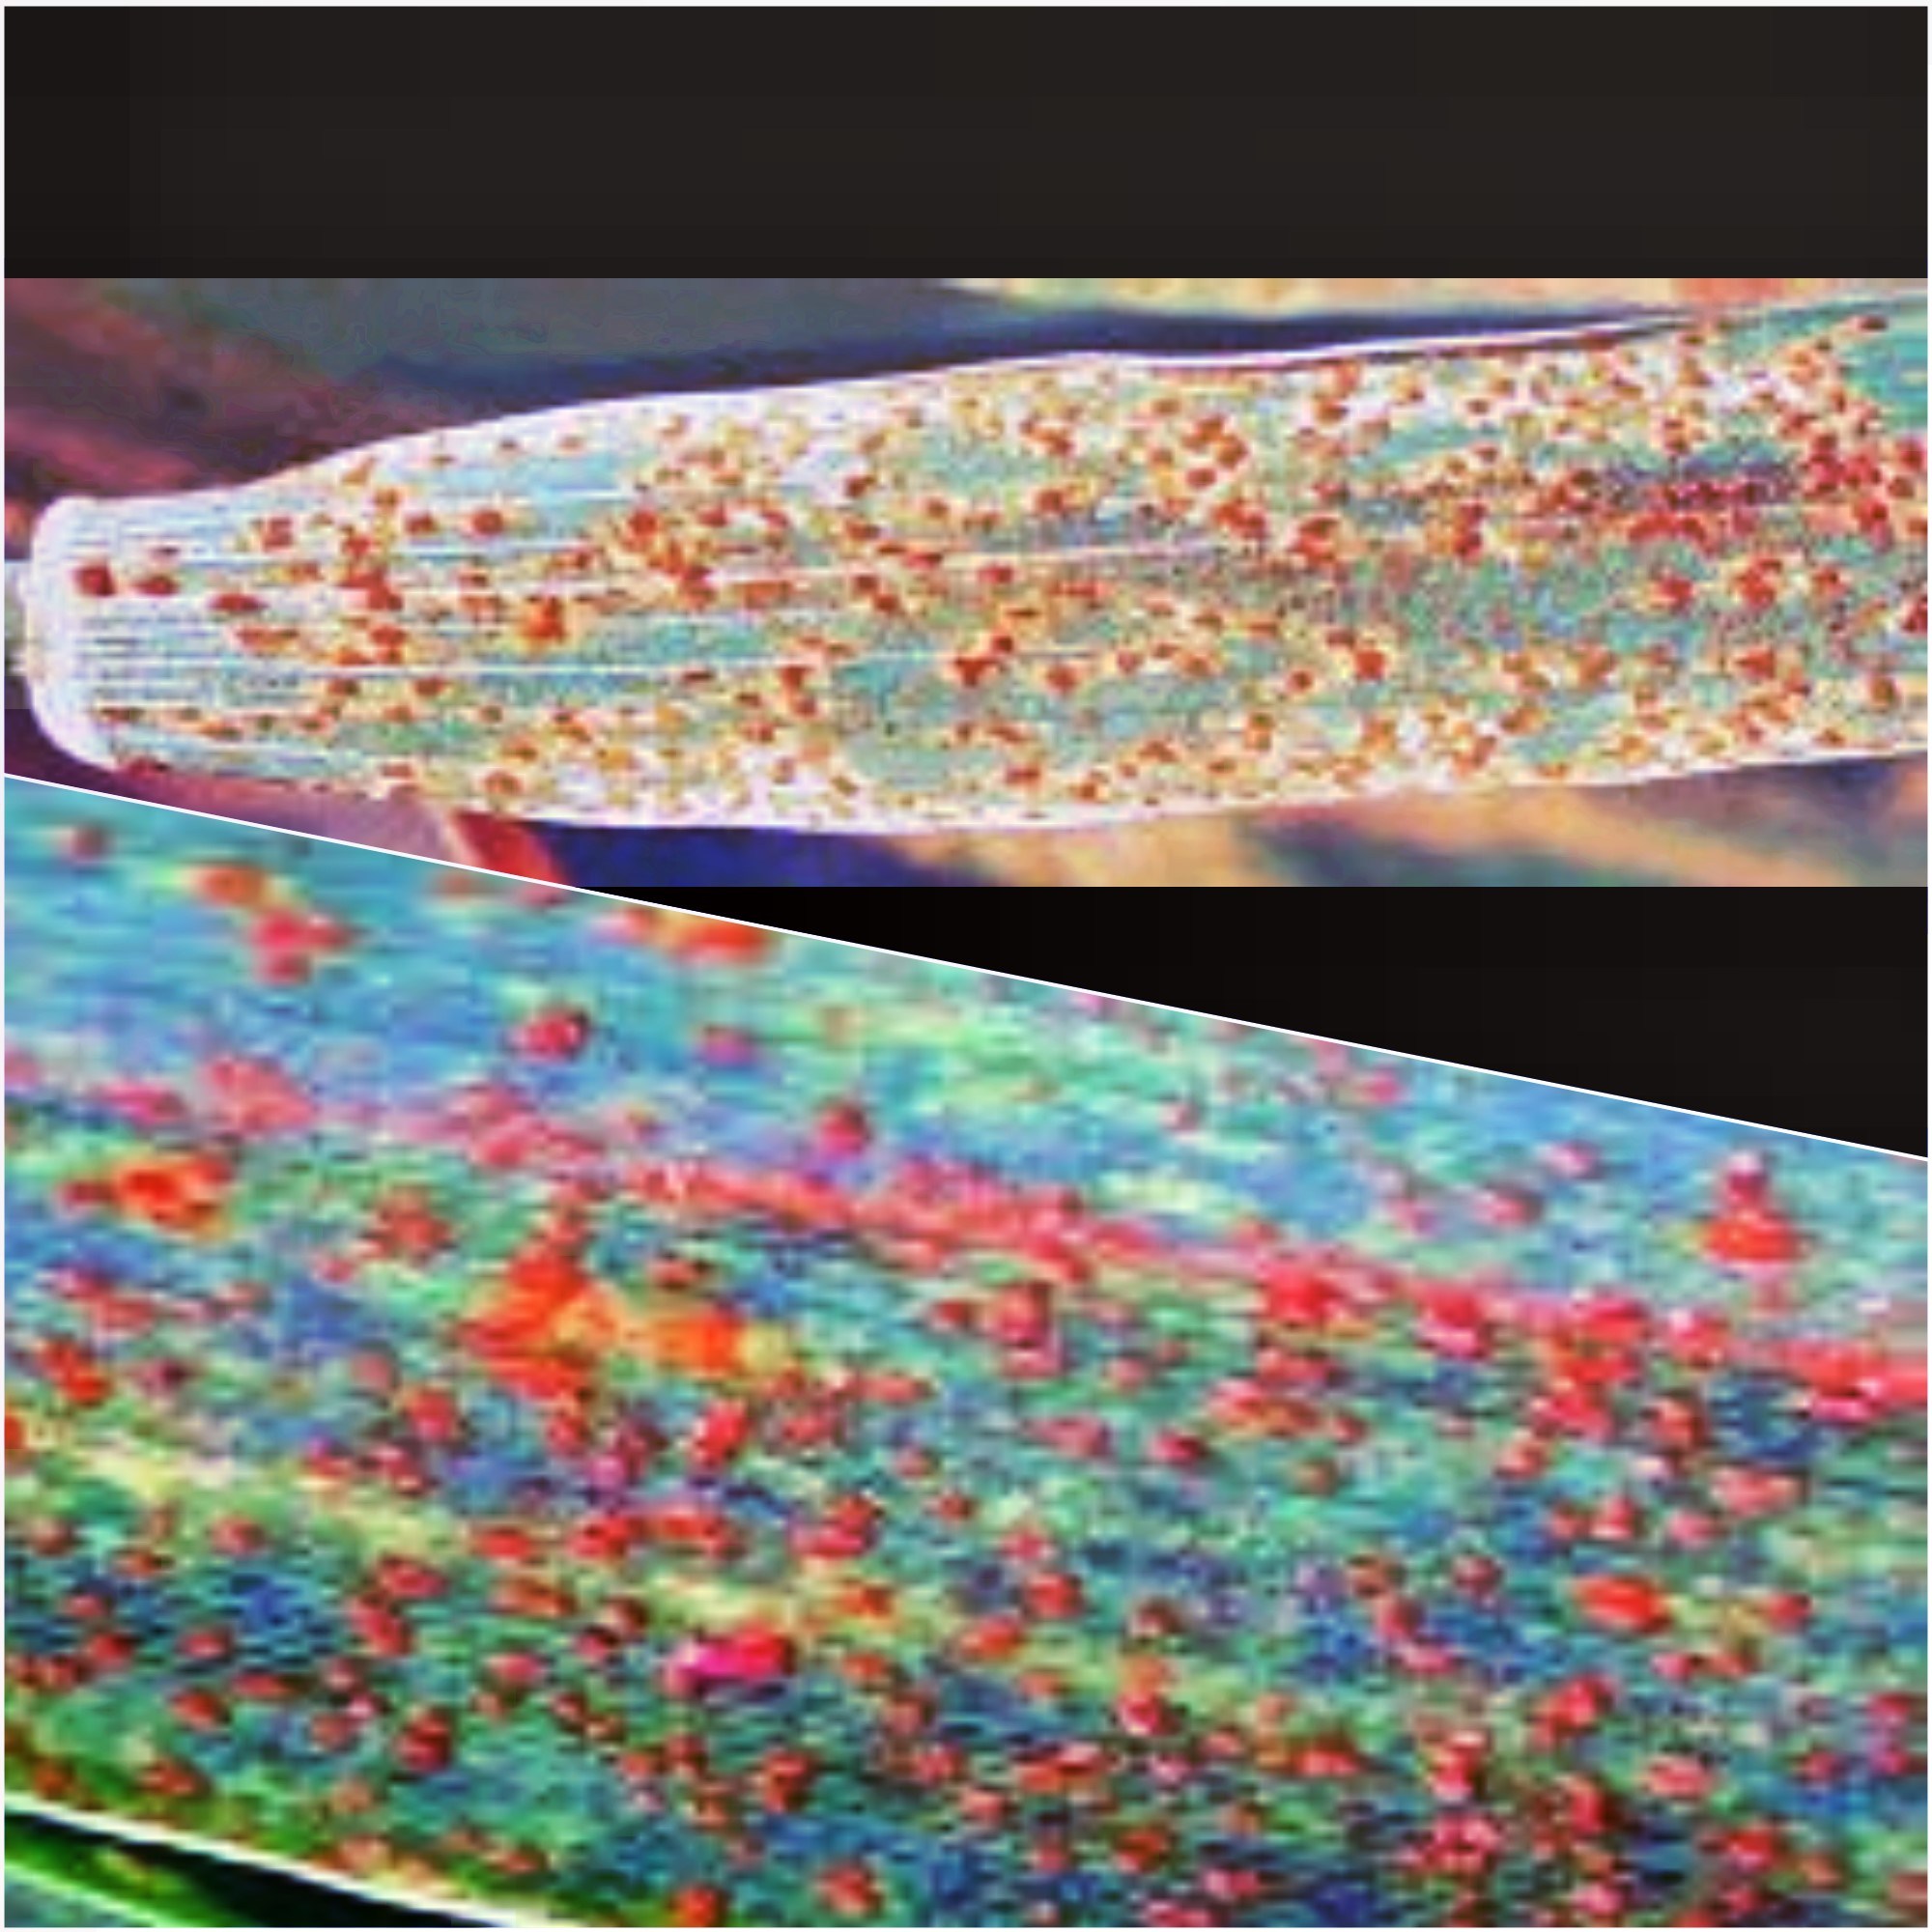Leaf Rust: (110, 902, 1856, 1893), (214, 322, 1882, 812)
